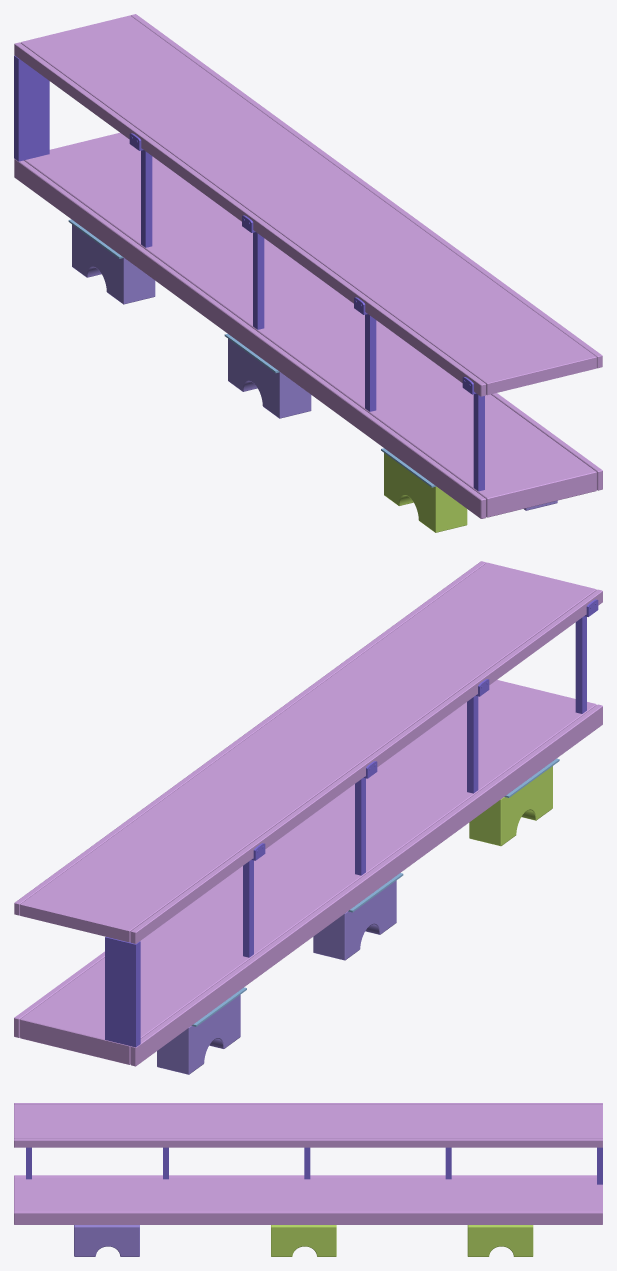
Rendered from shelfC.fbx.
3 renders of one model, top to bottom at view 1: azimuth 30°, elevation 25°; view 2: azimuth 150°, elevation 25°; view 3: azimuth 270°, elevation 25°, orthographic. The views are drawn at different scales.
Visible parts, largest first — view 1: shelfC; view 2: shelfC; view 3: shelfC.
Boxes of the visible parts, left/top/right/bottom form: shelfC: left=14, top=14, right=602, bottom=532; shelfC: left=14, top=561, right=602, bottom=1074; shelfC: left=14, top=1103, right=602, bottom=1256.
Bounding box in the file's own units: 94.61 × 130 × 599.
